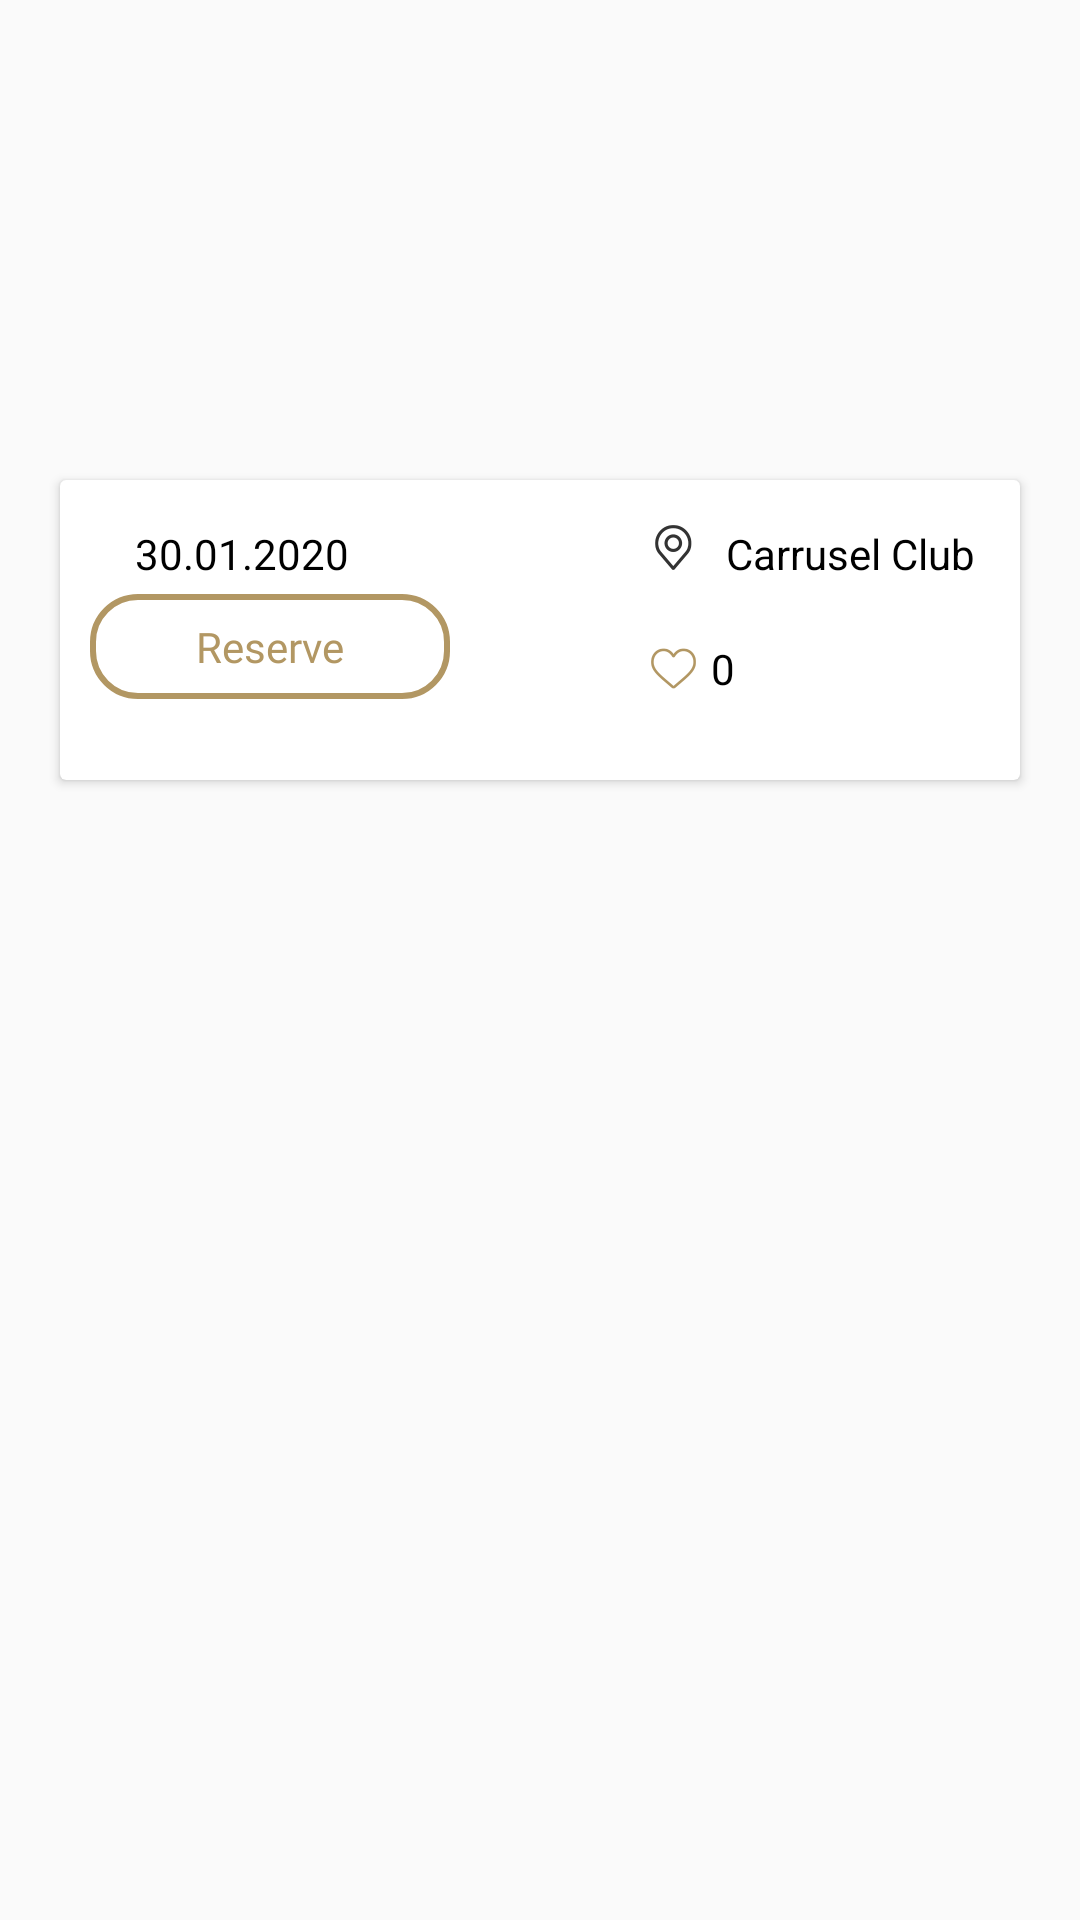

Locate icon controls on the screen. Image size 1080 × 1920, boxes as (x1, y1, x2, y2).
fav: (651, 648, 696, 689)
location: (655, 525, 692, 570)
